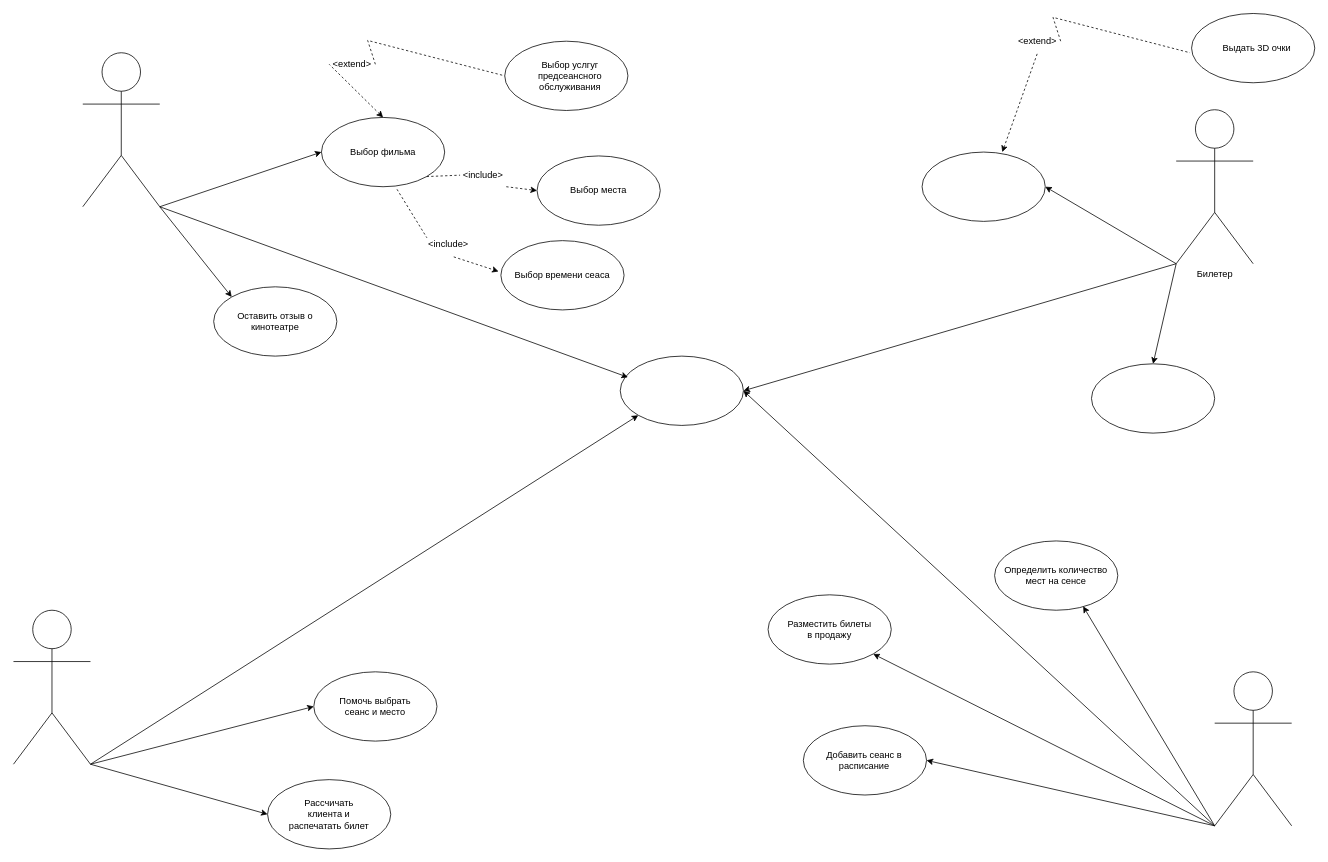
Some shapes in this 1328 by 862 pixel diagram are drawn without their labels. The box of each missing label's shape, as (x1, y1, x2, y2) in pixels:
Администратор: (1214, 671, 1292, 826)
Кассир: (13, 609, 90, 764)
Клиент: (82, 52, 160, 207)
Получить информацию по билету: (619, 355, 743, 425)
Проверить данные на билете: (921, 151, 1045, 221)
Составить статистику пришедших зрителей: (1091, 363, 1215, 433)
